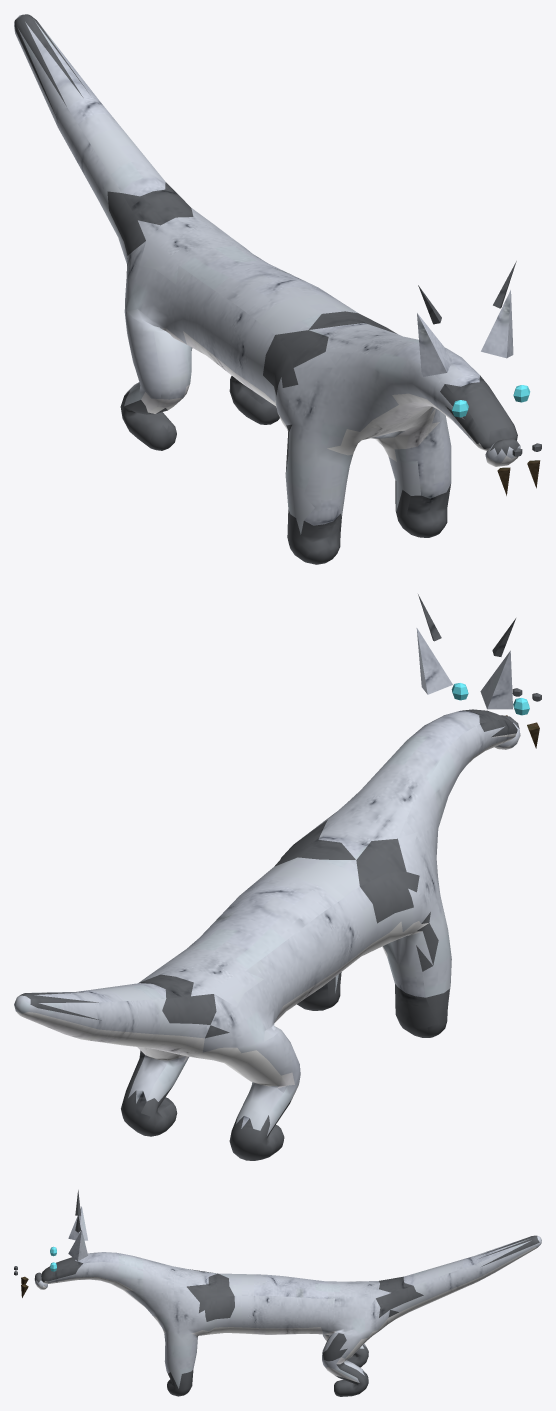
Rendered from mon_quad_03.glb.
3 views of the same model, one above another, from view 1: azimuth 30°, elevation 25°; view 2: azimuth 150°, elevation 25°; view 3: azimuth 270°, elevation 25° (orthographic). The views are drawn at different scales.
Visible parts, largest first — view 1: mon_quad_03; view 2: mon_quad_03; view 3: mon_quad_03.
Part boxes in pixels (<box>): mon_quad_03: <box>14,14,541,564</box>; mon_quad_03: <box>14,594,541,1160</box>; mon_quad_03: <box>14,1190,541,1396</box>.
Size of the model in its own units: 0.3146 by 0.6707 by 1.77.
Materials: 5 (5 with a texture image).
